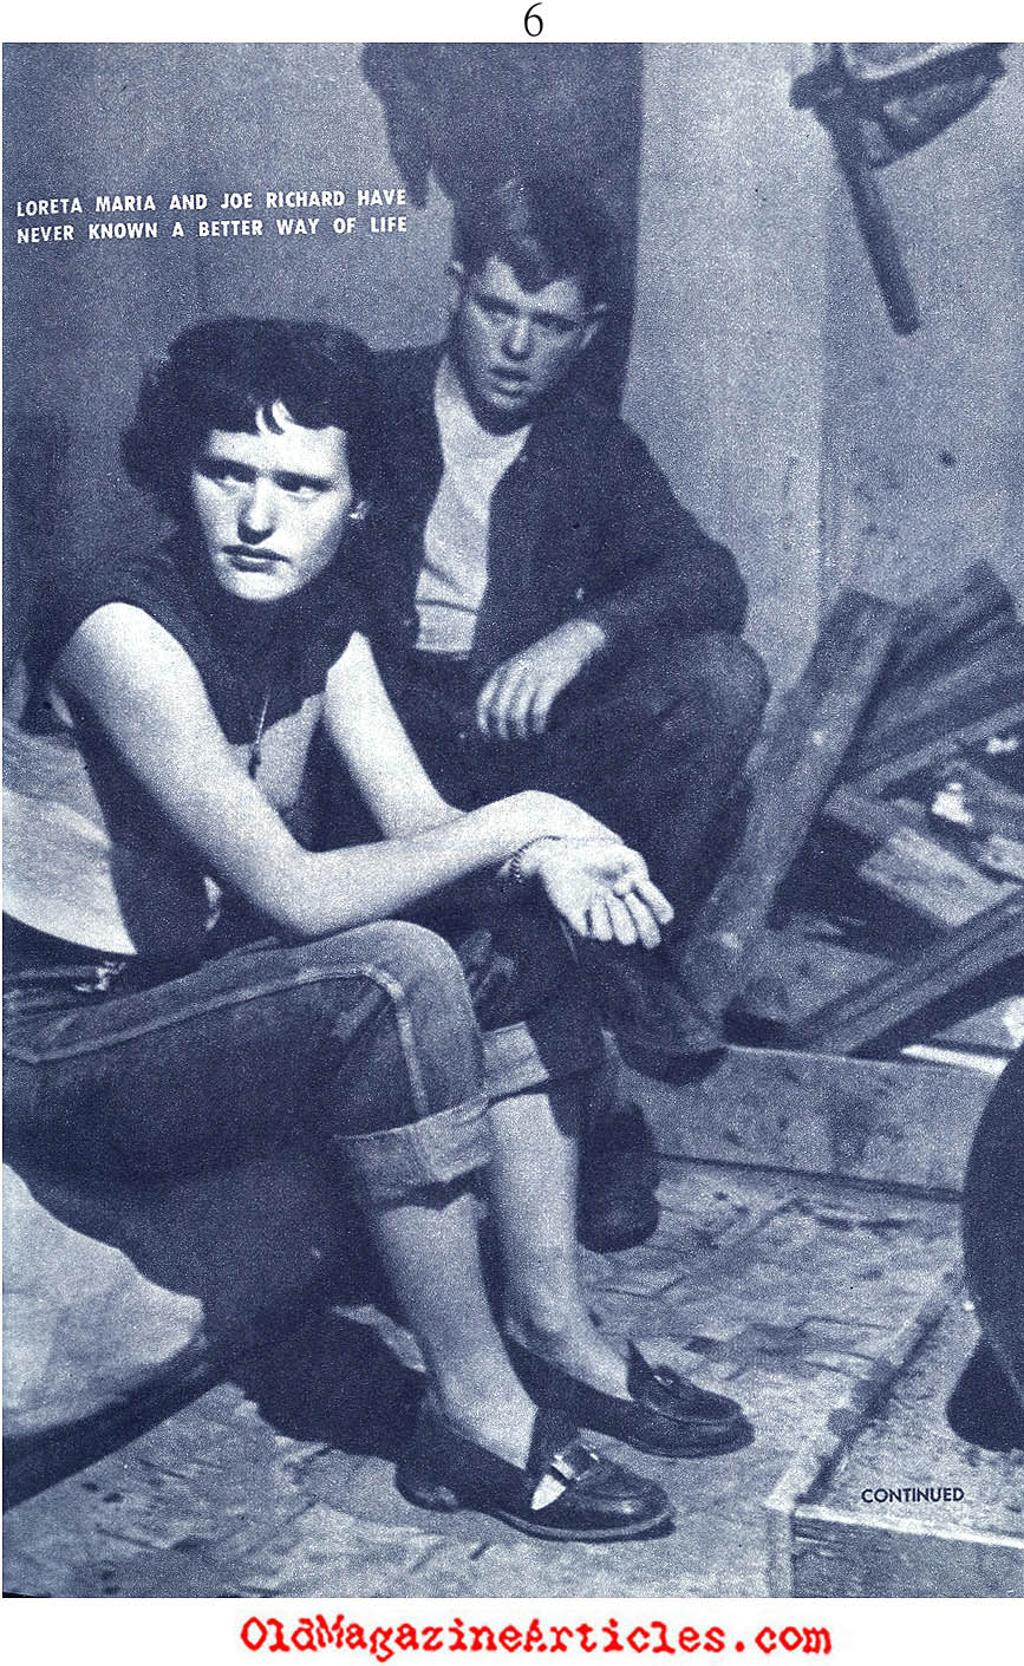face: (189, 397, 342, 592), (465, 254, 579, 410)
